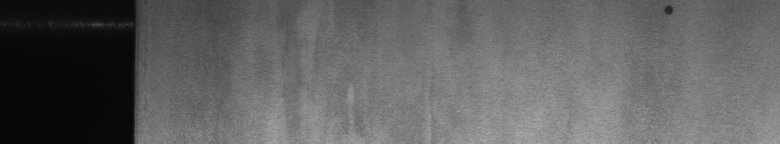fi: (659, 4, 679, 23)
